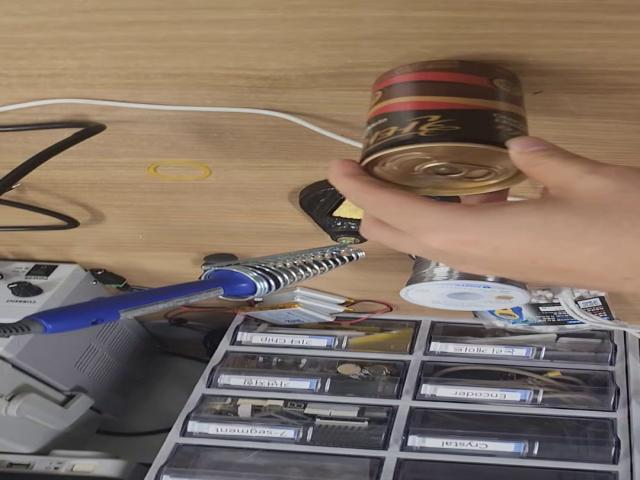Canned_drinks: (374, 60, 524, 195)
